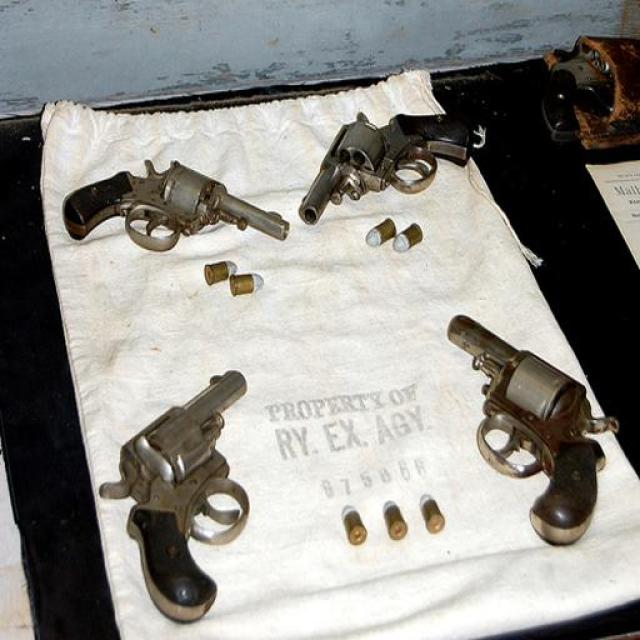pistol: (440, 312, 621, 550), (96, 364, 251, 625), (301, 105, 471, 225), (63, 161, 289, 247), (542, 30, 640, 147)
